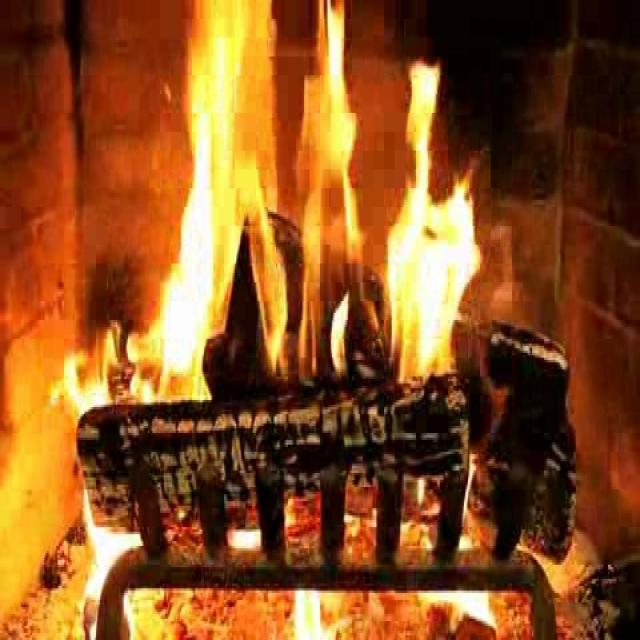fire: (152, 0, 477, 389)
